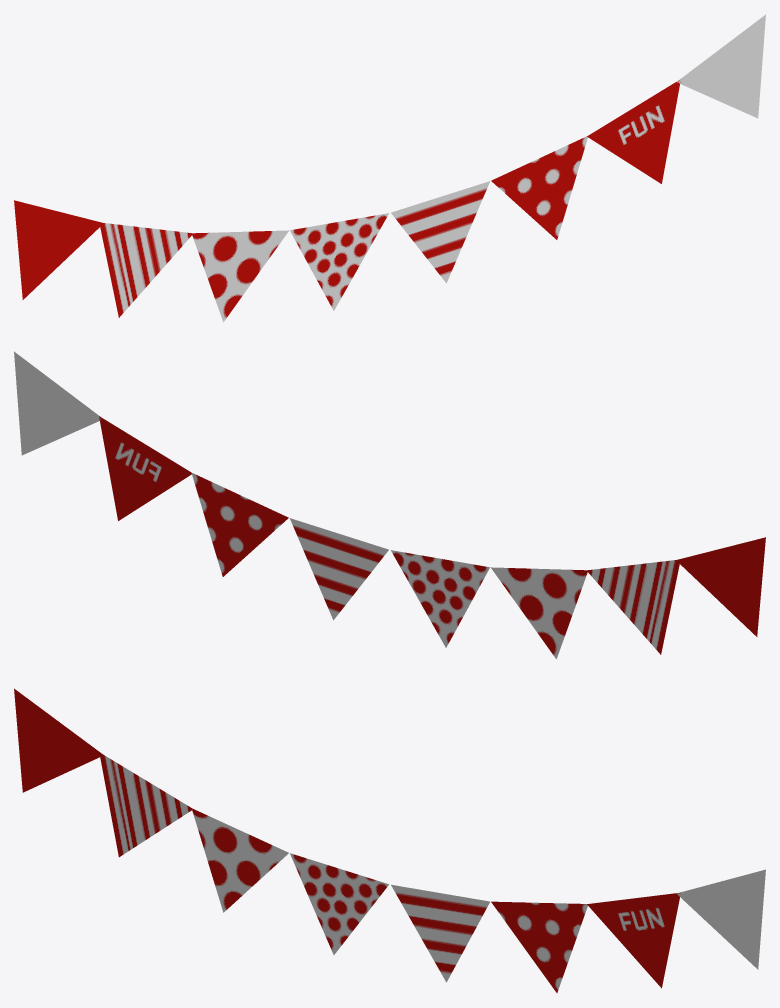
File: flag.fbx
3 renders of one model, top to bottom at view 1: azimuth 30°, elevation 25°; view 2: azimuth 150°, elevation 25°; view 3: azimuth 330°, elevation 25°, orthographic.
Visible parts, largest first — view 1: 平面.009; view 2: 平面.009; view 3: 平面.009.
Boxes of the visible parts, box(x1,y1,x2,y2) form: 平面.009: box(14, 14, 765, 322); 平面.009: box(14, 351, 765, 659); 平面.009: box(14, 688, 765, 992).
Size of the model in its own units: 301 by 73.19 by 1.4e-05.
